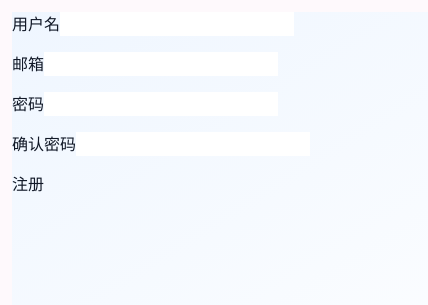
Test: RegisterForm › should validate username length
Type "ab" into the field labelled "用户名" at point(177, 24), box top-left (60, 12), bottom-right (294, 36)
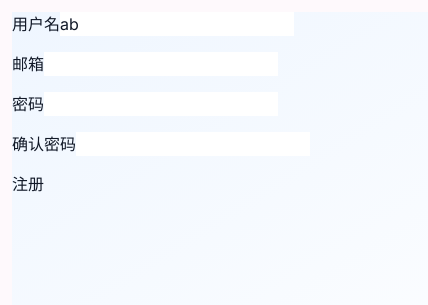
Click the button "注册" at point(28, 184), box top-left (12, 172), bottom-right (44, 196)
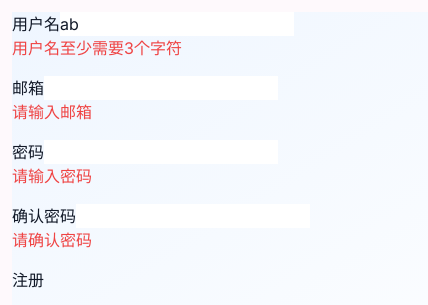
Expected: the text "用户名至少需要3个字符" is shown, top-left (12, 38), bottom-right (182, 58)
